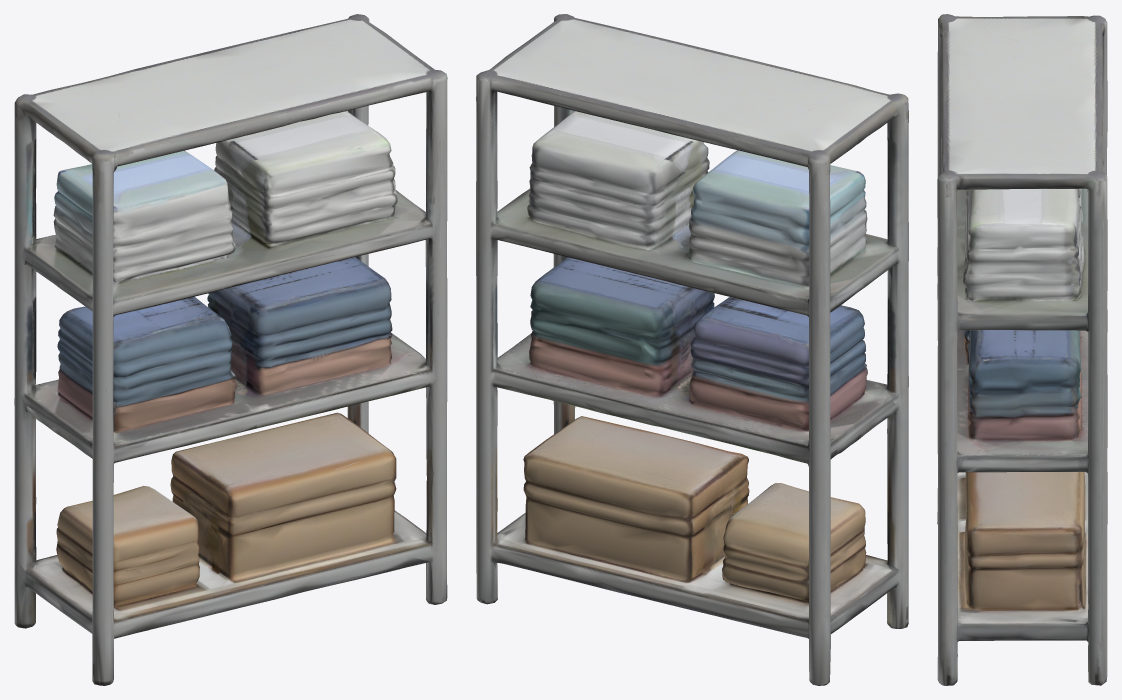
File: LinenShelf.fbx
3 renders of one model, left to right at view 1: azimuth 30°, elevation 25°; view 2: azimuth 150°, elevation 25°; view 3: azimuth 270°, elevation 25°, orthographic. The views are drawn at different scales.
Parts seen in each view (by area): view 1: Mesh_0; view 2: Mesh_0; view 3: Mesh_0.
Boxes of the visible parts, box(x1,y1,x2,y2) form: Mesh_0: box(14, 14, 447, 685); Mesh_0: box(476, 14, 908, 685); Mesh_0: box(937, 14, 1107, 685).
Bounding box in the file's own units: 139 × 200 × 60.57.
1 material, 1 textured.
